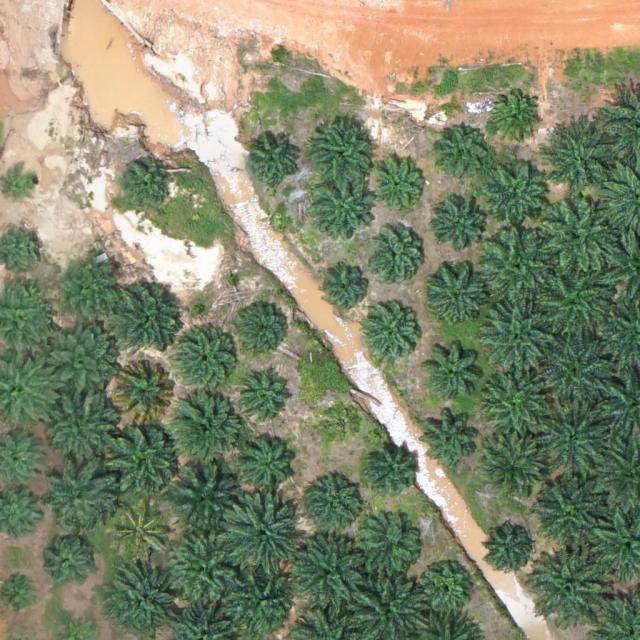Dead: (319, 400, 366, 447)
Grass: (105, 495, 175, 566)
Healthy: (545, 118, 623, 197), (542, 196, 620, 275), (538, 261, 616, 340), (538, 331, 616, 410), (536, 399, 614, 478), (529, 547, 607, 626), (481, 227, 559, 306), (108, 277, 186, 356), (104, 423, 182, 502), (44, 390, 122, 469), (42, 456, 120, 535), (168, 387, 246, 466), (166, 531, 244, 610), (108, 561, 186, 640), (221, 496, 299, 575), (286, 536, 364, 615), (39, 327, 117, 405), (168, 459, 246, 537), (479, 429, 549, 500), (482, 362, 552, 433), (482, 299, 552, 370), (54, 254, 124, 325), (172, 326, 242, 397), (353, 515, 423, 586), (532, 475, 602, 545), (235, 429, 298, 492), (487, 163, 549, 226), (425, 264, 487, 327), (422, 339, 484, 402), (421, 406, 483, 469), (314, 178, 376, 241), (311, 120, 373, 183), (300, 476, 362, 539), (438, 126, 493, 181), (434, 201, 489, 256), (363, 440, 418, 495), (371, 161, 426, 216), (369, 231, 424, 286), (364, 308, 419, 363), (246, 136, 301, 191), (38, 536, 93, 591), (240, 367, 295, 422), (237, 301, 292, 356), (488, 91, 542, 146), (486, 527, 533, 574)
Small: (419, 563, 474, 618), (319, 261, 374, 316), (120, 161, 174, 216), (3, 166, 42, 205)
Yellow: (109, 357, 180, 428)
